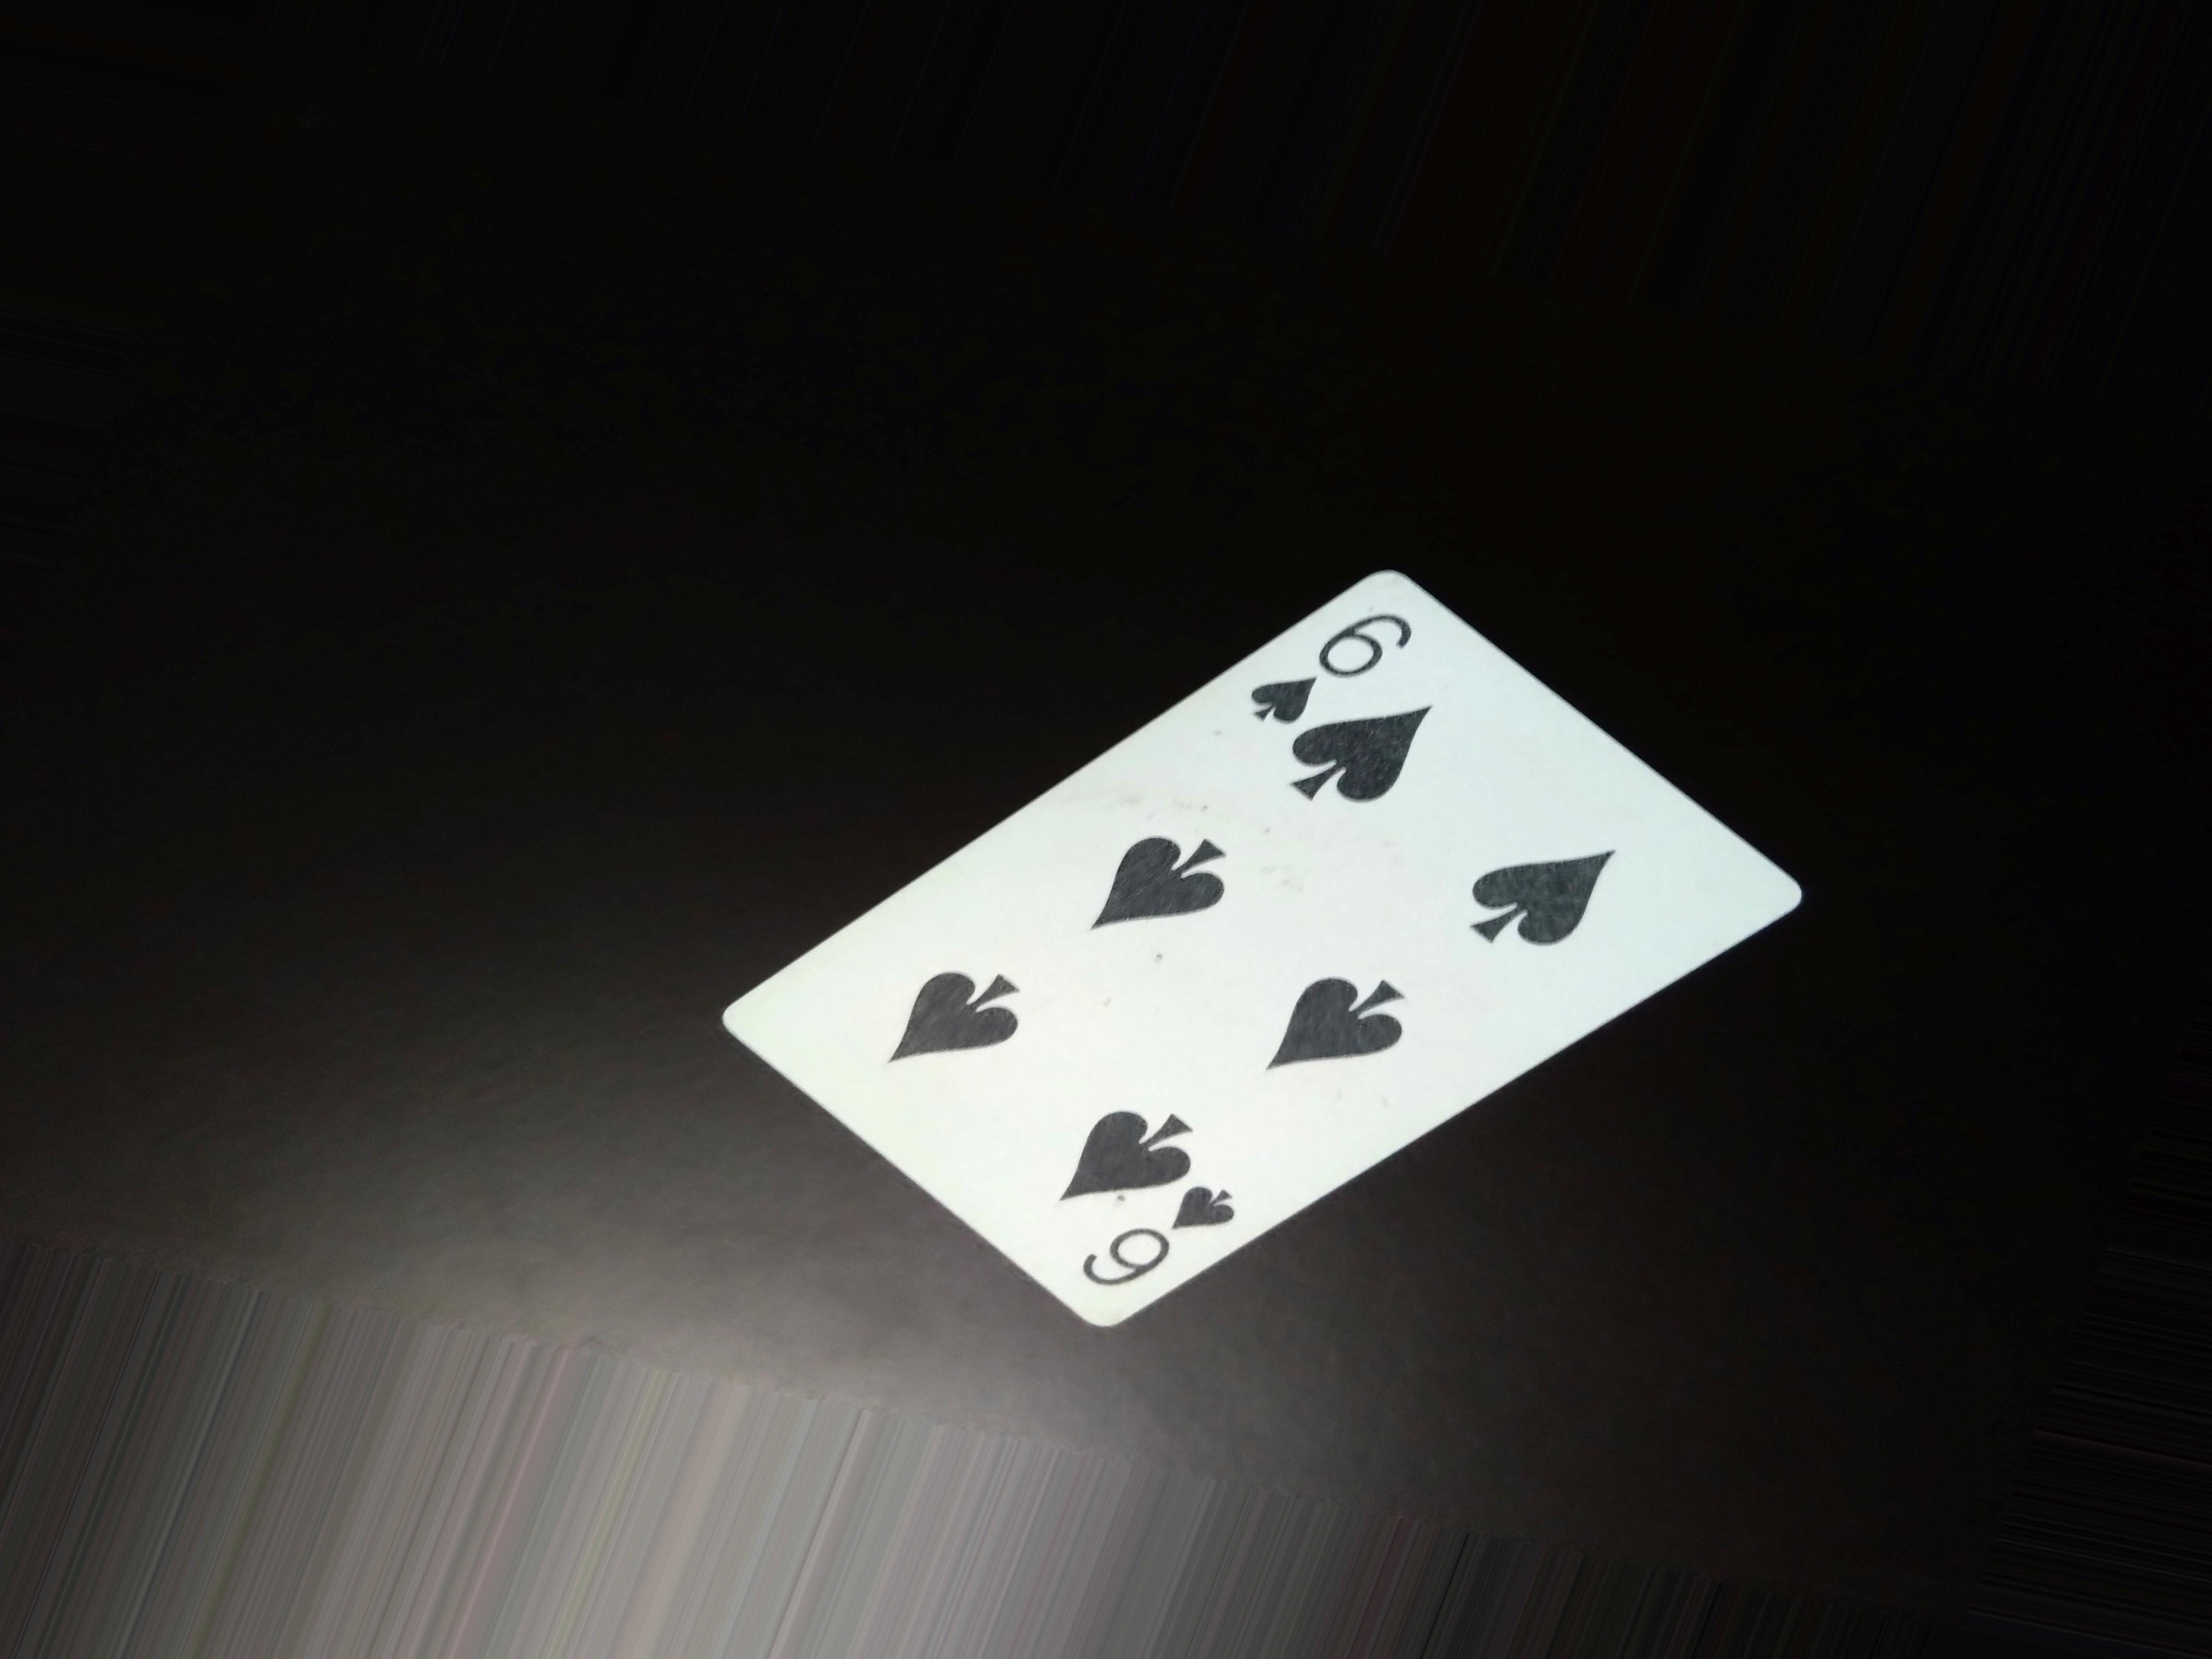6S: (1237, 620, 1446, 734)
